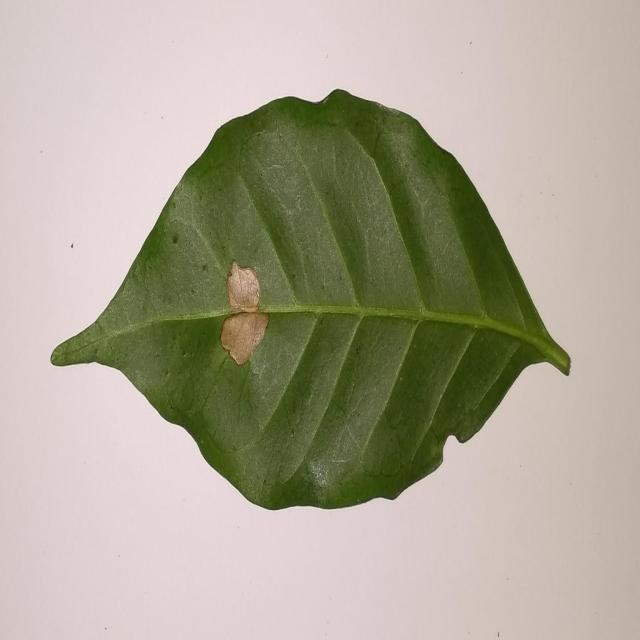miner: (220, 261, 269, 364)
